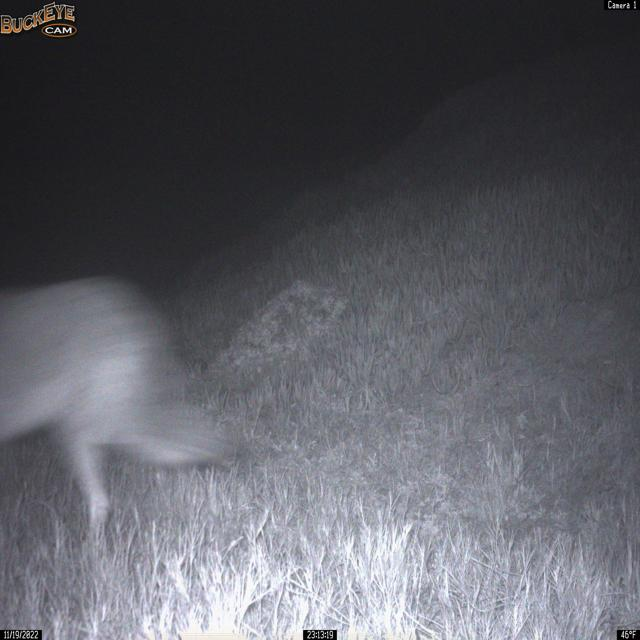coyote: (0, 270, 243, 565)
